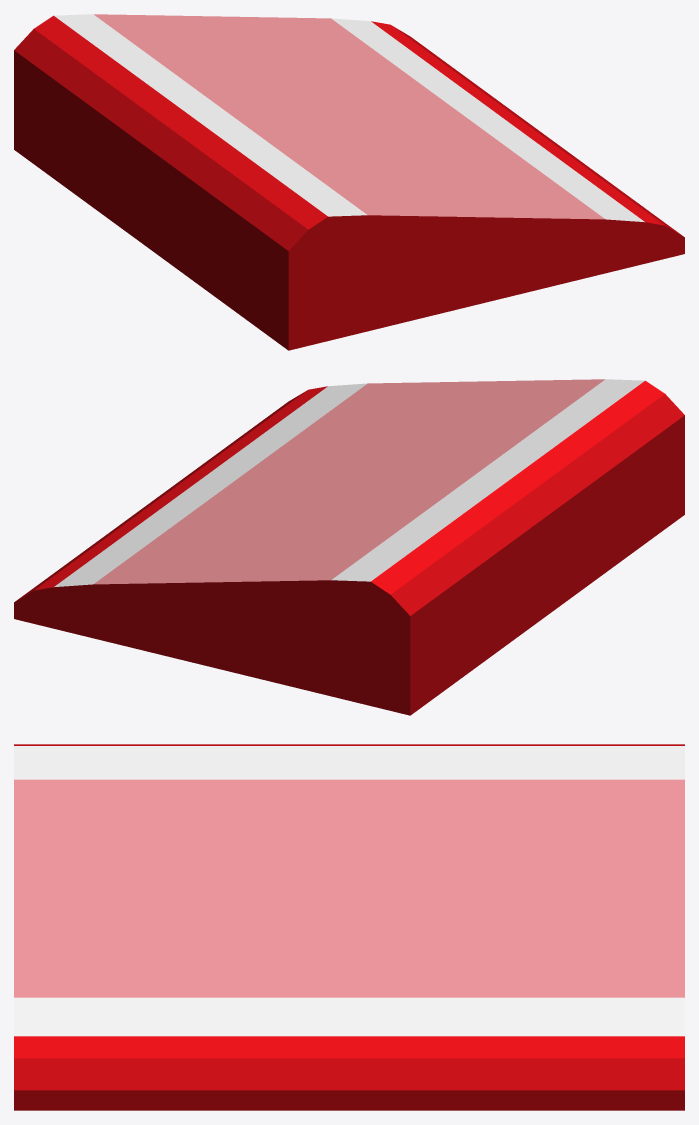
The model's file is bank2.fbx.
3 renders of one model, top to bottom at view 1: azimuth 30°, elevation 25°; view 2: azimuth 150°, elevation 25°; view 3: azimuth 270°, elevation 25°, orthographic. The views are drawn at different scales.
Visible parts, largest first — view 1: BankedStraight.001; view 2: BankedStraight.001; view 3: BankedStraight.001.
Boxes of the visible parts, x1,y1,x2,y2 form: BankedStraight.001: (14,14,684,350); BankedStraight.001: (14,379,684,715); BankedStraight.001: (14,744,684,1110).
Size of the model in its own units: 10 by 3 by 12.
